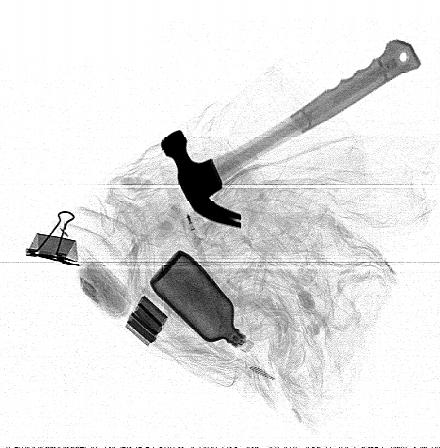Hammer: (160, 40, 420, 230)
